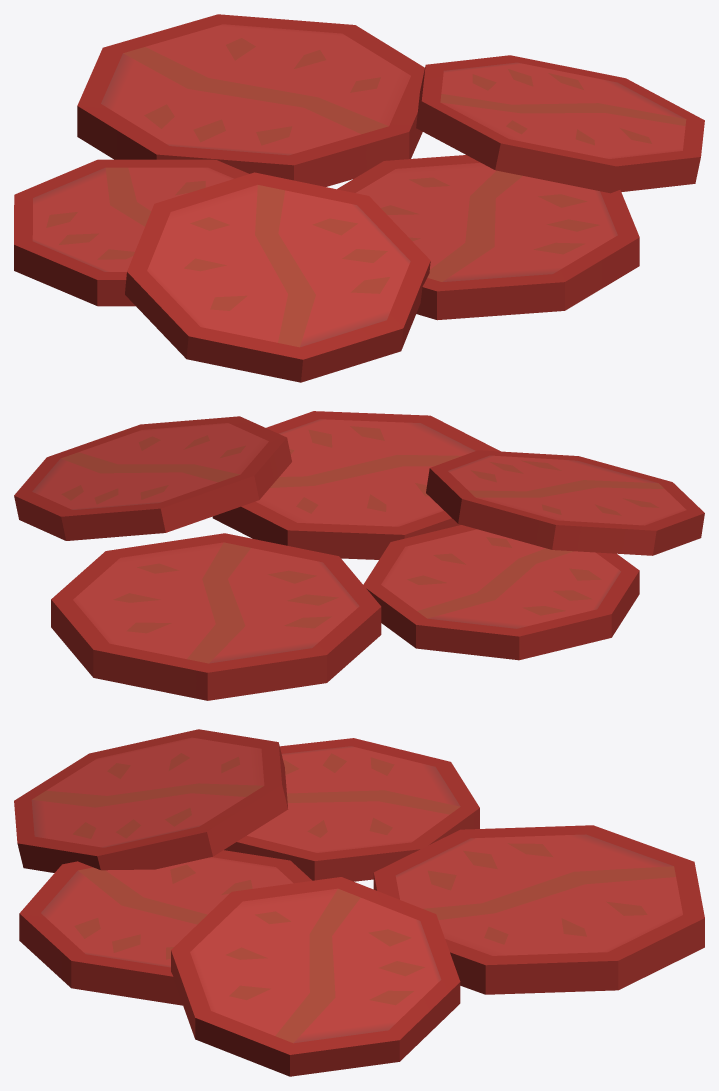
Rendered from SM_Props_Interior_SuperMarket_Item_Food_Tomato.fbx.
3 views of the same model, one above another, from view 1: azimuth 30°, elevation 25°; view 2: azimuth 150°, elevation 25°; view 3: azimuth 270°, elevation 25° (orthographic). The views are drawn at different scales.
Parts seen in each view (by area): view 1: SM_Props_Interior_SuperMarket_Item_Food_Tomato; view 2: SM_Props_Interior_SuperMarket_Item_Food_Tomato; view 3: SM_Props_Interior_SuperMarket_Item_Food_Tomato.
Boxes of the visible parts, bbox=[...] form: SM_Props_Interior_SuperMarket_Item_Food_Tomato: bbox=[14, 14, 704, 382]; SM_Props_Interior_SuperMarket_Item_Food_Tomato: bbox=[14, 411, 704, 700]; SM_Props_Interior_SuperMarket_Item_Food_Tomato: bbox=[14, 729, 704, 1076].
Bounding box in the file's own units: 13.54 × 1.72 × 12.93.
